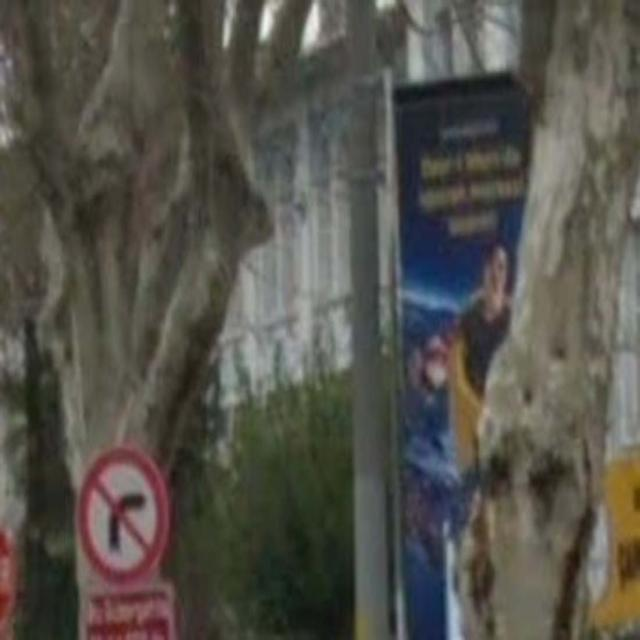sagadonulmez: (77, 447, 170, 586)
